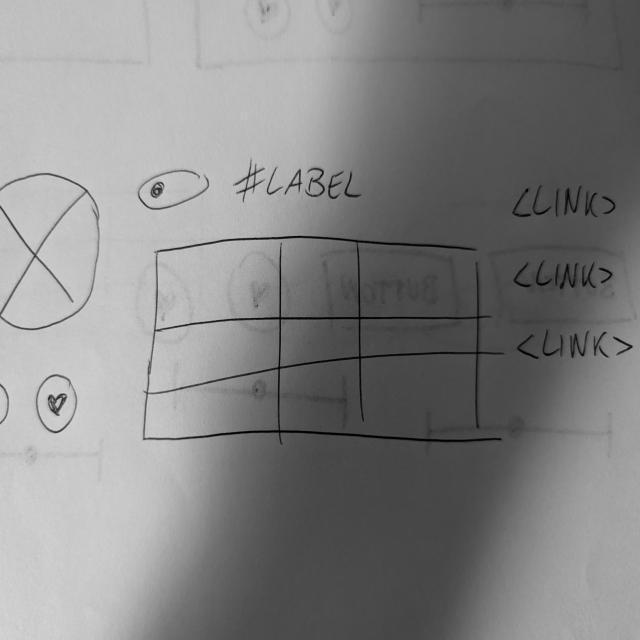icon-button: (35, 372, 79, 436), (1, 378, 12, 431)
image: (2, 172, 104, 334)
label: (235, 159, 367, 206)
link: (516, 323, 636, 366), (510, 181, 619, 223), (512, 257, 618, 296)
table: (143, 232, 487, 448)
toggle: (138, 167, 214, 213)
